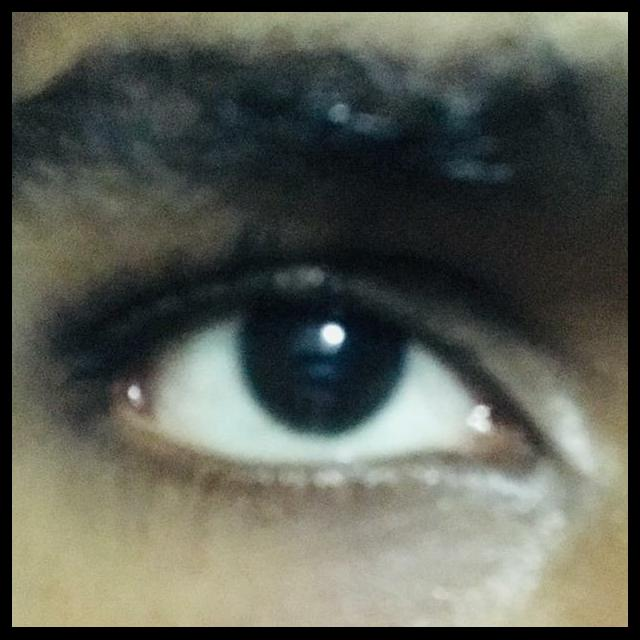eye: (133, 303, 491, 468)
iris: (235, 307, 415, 439)
